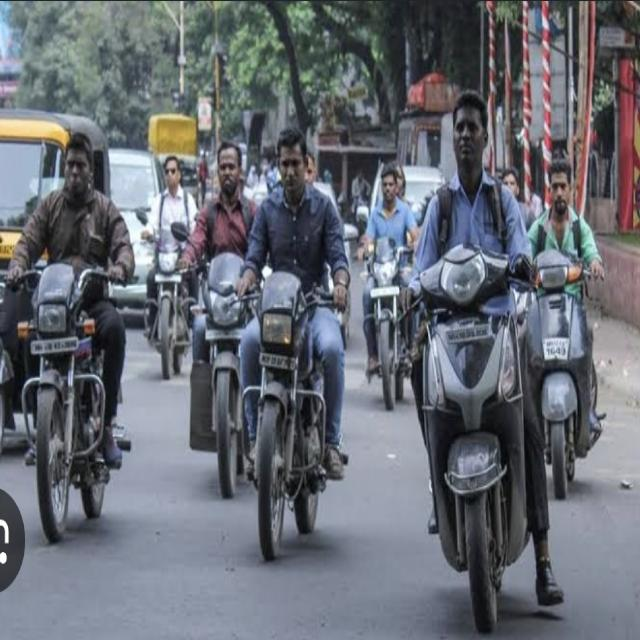WithoutHelmet: (401, 91, 564, 607), (3, 131, 137, 467), (236, 130, 353, 481), (527, 161, 607, 455), (177, 140, 260, 365), (356, 165, 422, 384), (139, 153, 198, 346), (502, 165, 539, 227)
